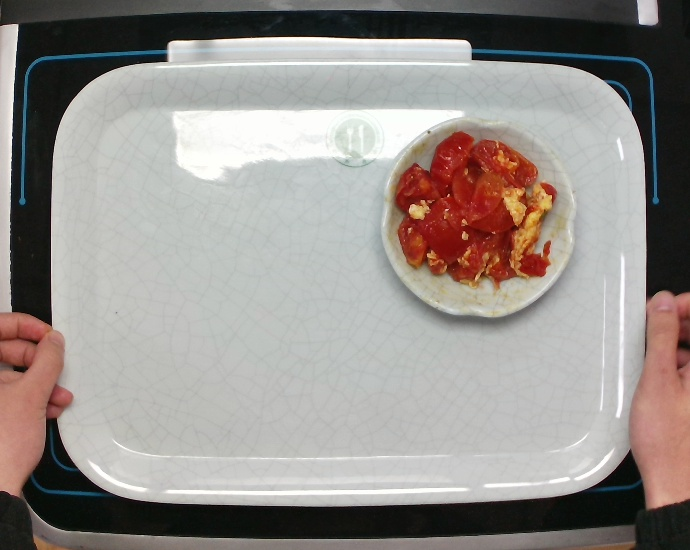JYsf-Ao_Yuan_Wan: (368, 107, 584, 325)
